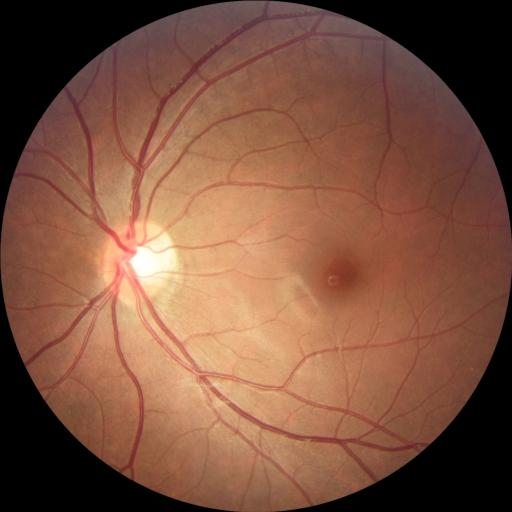Optic Cup: (124, 244, 155, 275)
Optic Disc: (102, 220, 176, 304)
